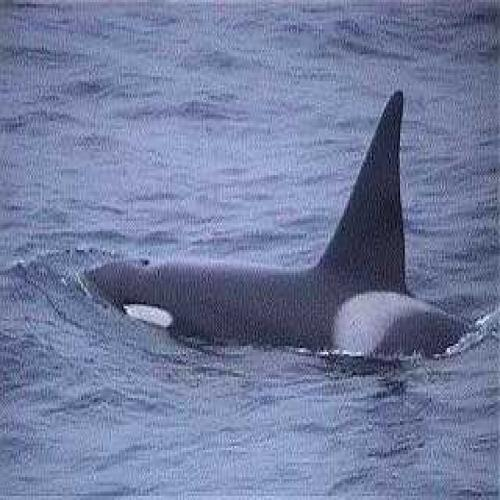killer_whale-endangered: (81, 142, 482, 385)
